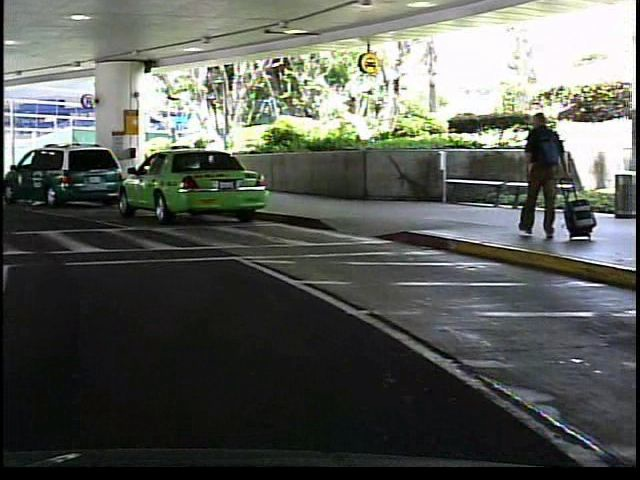person: (509, 106, 572, 246)
